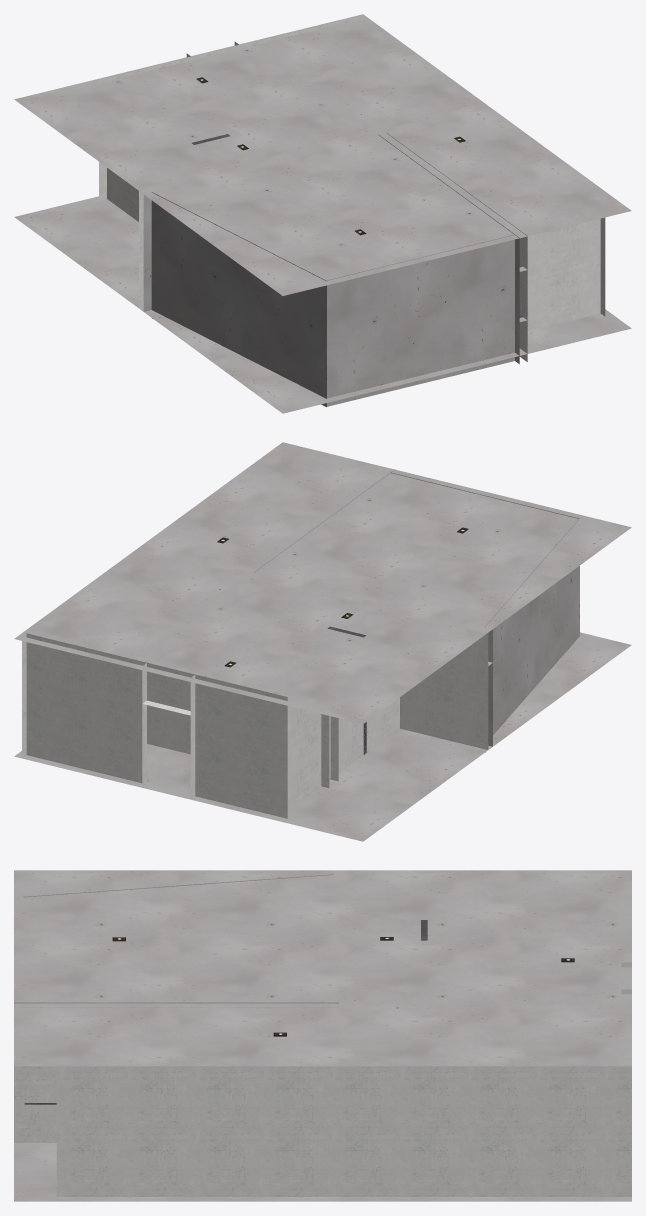
File: HC_cont1_008.obj
3 renders of one model, top to bottom at view 1: azimuth 30°, elevation 25°; view 2: azimuth 150°, elevation 25°; view 3: azimuth 270°, elevation 25°, orthographic. The views are drawn at different scales.
Visible parts, largest first — view 1: HC_cont1_008; view 2: HC_cont1_008; view 3: HC_cont1_008.
Part boxes in pixels (x1=…): HC_cont1_008: x1=14, y1=14, x2=631, y2=413; HC_cont1_008: x1=14, y1=442, x2=631, y2=841; HC_cont1_008: x1=14, y1=870, x2=631, y2=1201.
Size of the model in its own units: 13.92 by 4.96 by 18.56.
Materials: 11 (11 with a texture image).
